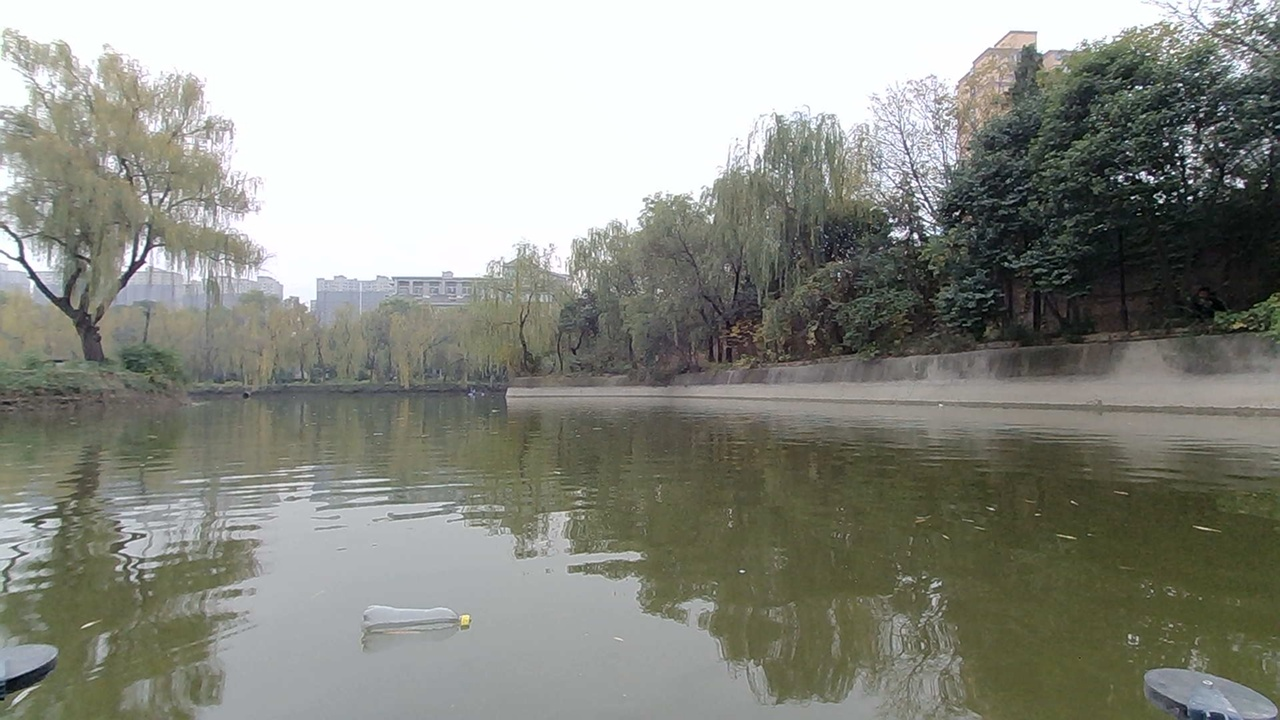bottle: (349, 598, 478, 662)
